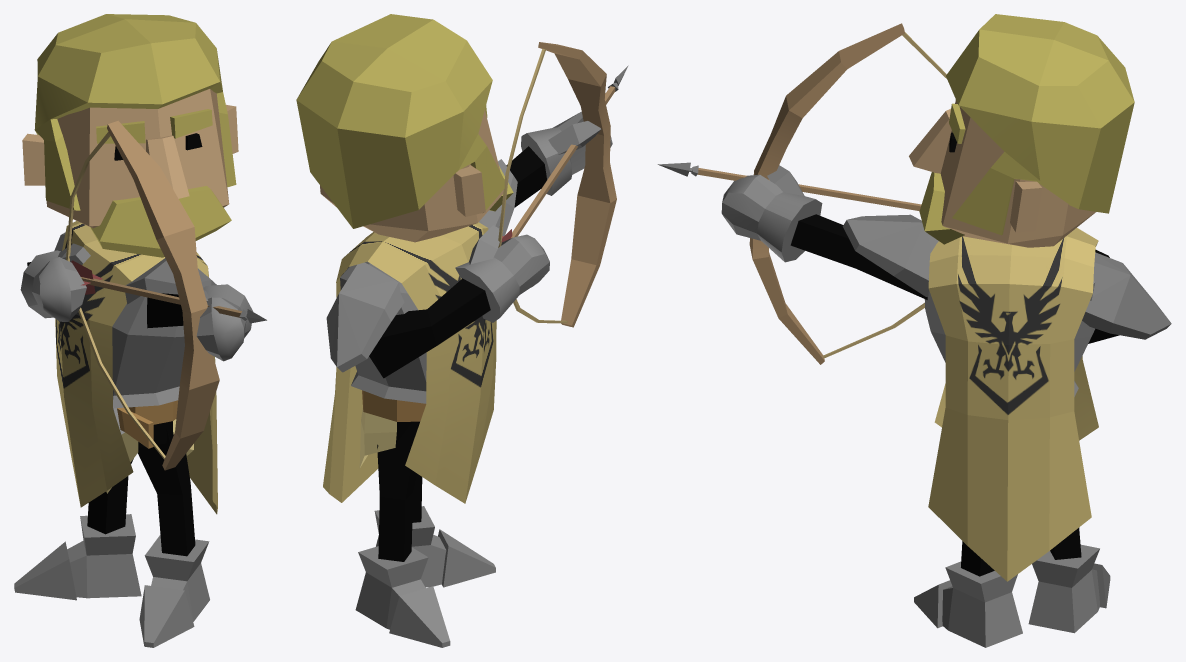
Rendered from army_soldier_09.glb.
3 views of the same model, side by side, from view 1: azimuth 30°, elevation 25°; view 2: azimuth 150°, elevation 25°; view 3: azimuth 270°, elevation 25° (orthographic). The views are drawn at different scales.
Parts seen in each view (by area): view 1: Soldier_9; view 2: Soldier_9; view 3: Soldier_9.
Boxes of the visible parts, x1=… form: Soldier_9: x1=14, y1=14, x2=266, y2=647; Soldier_9: x1=296, y1=14, x2=628, y2=647; Soldier_9: x1=657, y1=14, x2=1171, y2=647.
Size of the model in its own units: 0.691 by 1.72 by 1.36.
11 materials, 1 textured.
